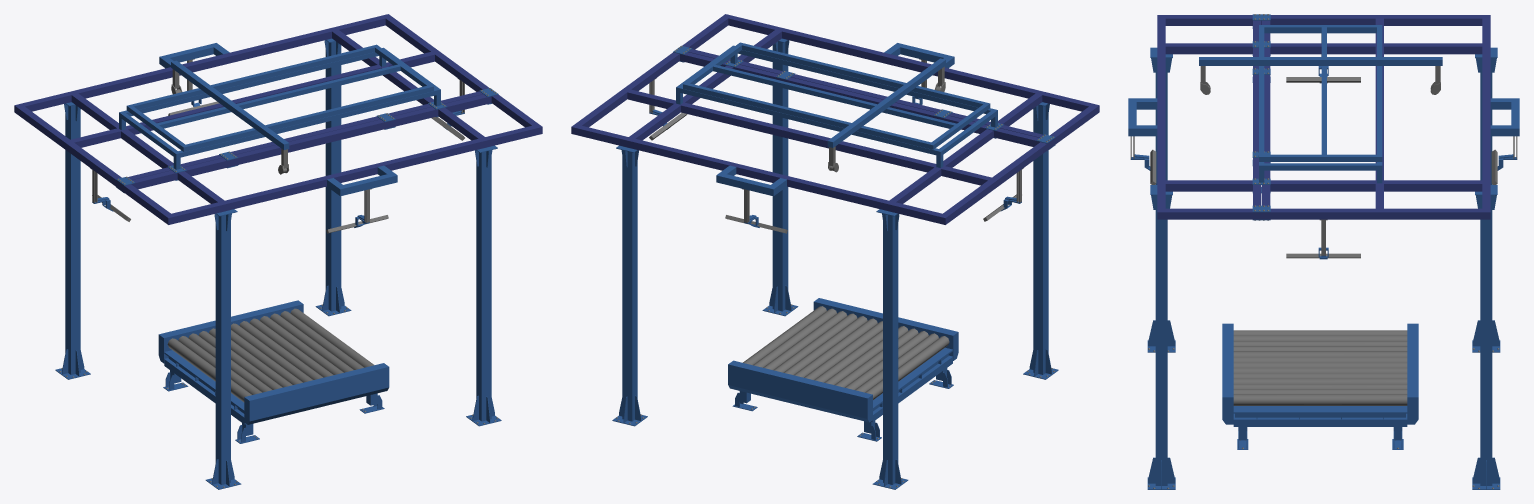
Rendered from VMS 센서.fbx.
The picture shows the model from 3 angles, left to right: view 1: azimuth 30°, elevation 25°; view 2: azimuth 150°, elevation 25°; view 3: azimuth 270°, elevation 25°; orthographic projection. The views are drawn at different scales.
Visible parts, largest first — view 1: VMS_센서, Box008; view 2: VMS_센서, Box008; view 3: VMS_센서, Box008.
Boxes of the visible parts, x1=… form: VMS_센서: x1=55, y1=38, x2=501, y2=489; Box008: x1=14, y1=14, x2=542, y2=224; VMS_센서: x1=612, y1=38, x2=1058, y2=489; Box008: x1=571, y1=14, x2=1099, y2=224; VMS_센서: x1=1128, y1=14, x2=1519, y2=489; Box008: x1=1157, y1=15, x2=1490, y2=219.
Size of the model in its own units: 560 by 438 by 470.
